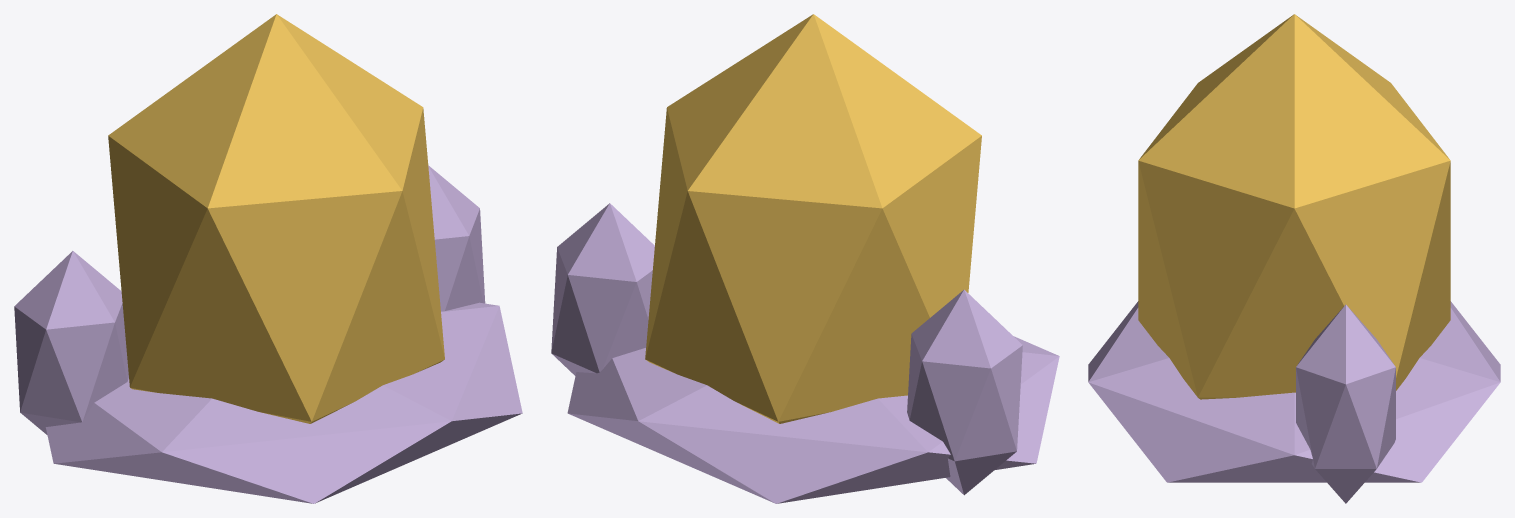
The model's file is rare_seed.glb.
The picture shows the model from 3 angles, left to right: view 1: azimuth 30°, elevation 25°; view 2: azimuth 150°, elevation 25°; view 3: azimuth 270°, elevation 25°; orthographic projection. The views are drawn at different scales.
Parts seen in each view (by area): view 1: Icon_Icosphere.001, Icon_Icosphere.002, Icon_Icosphere.003, Icon_Icosphere; view 2: Icon_Icosphere.001, Icon_Icosphere.002, Icon_Icosphere.003, Icon_Icosphere; view 3: Icon_Icosphere.001, Icon_Icosphere.002, Icon_Icosphere.
Part boxes in pixels (x1,y1,x2,y2): Icon_Icosphere.001: (108, 14, 444, 423); Icon_Icosphere.002: (45, 302, 522, 503); Icon_Icosphere.003: (14, 251, 128, 434); Icon_Icosphere: (428, 165, 485, 311); Icon_Icosphere.001: (645, 14, 981, 423); Icon_Icosphere.002: (567, 336, 1059, 503); Icon_Icosphere.003: (907, 289, 1022, 495); Icon_Icosphere: (551, 203, 654, 375); Icon_Icosphere.001: (1138, 14, 1450, 399); Icon_Icosphere.002: (1088, 301, 1500, 482); Icon_Icosphere: (1296, 304, 1395, 503).
Size of the model in its own units: 0.701 by 0.68 by 0.5614.
